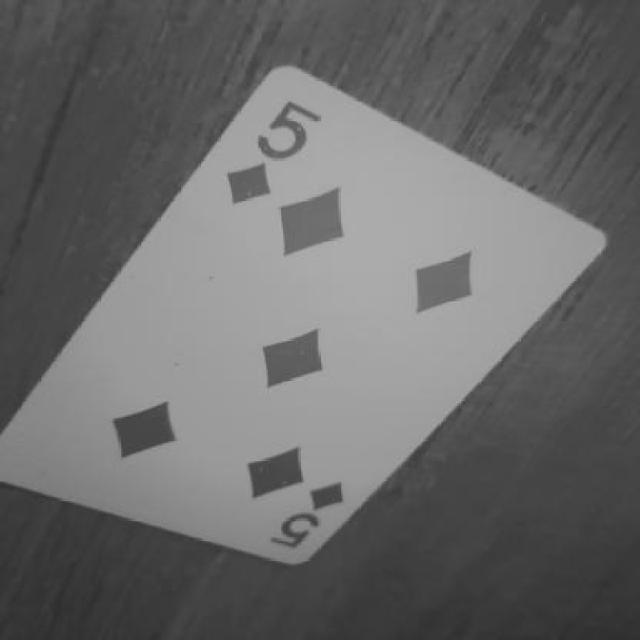5D: (214, 100, 340, 218), (254, 469, 361, 560)
